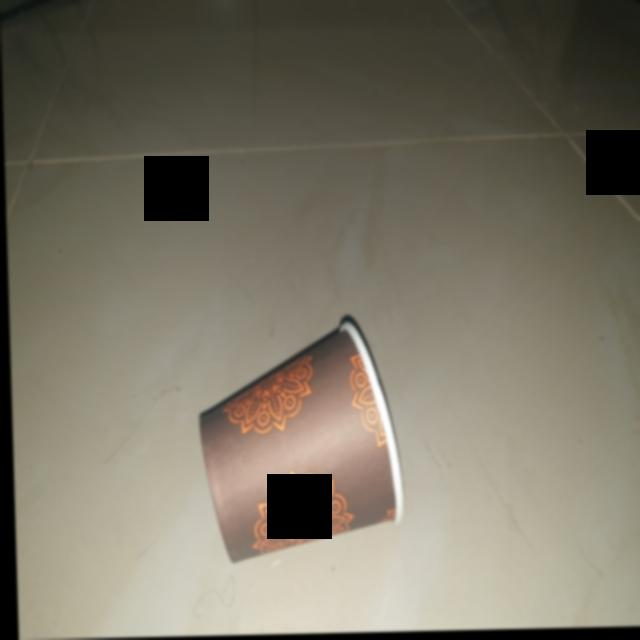cups: (189, 308, 406, 573)
